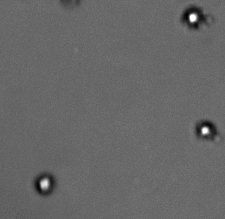Living Cell: (182, 6, 206, 27), (35, 173, 54, 194), (197, 120, 217, 139)
